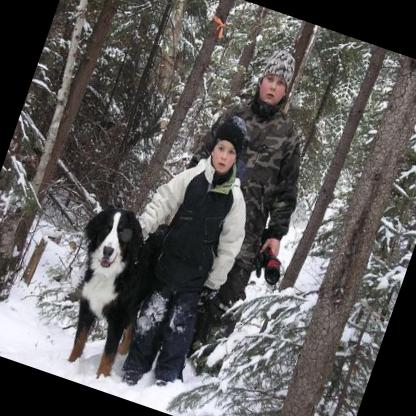Bernese_mountain_dog: (35, 189, 176, 380)
